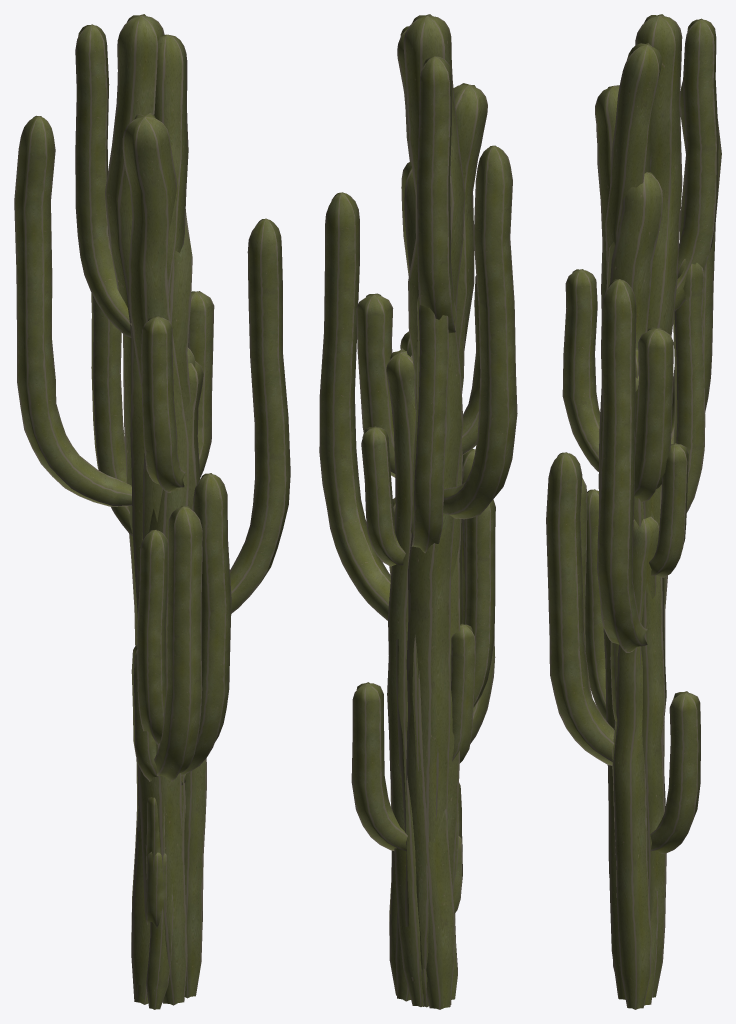
The model's file is cactus_1k.gltf.
3 views of the same model, side by side, from view 1: azimuth 30°, elevation 25°; view 2: azimuth 150°, elevation 25°; view 3: azimuth 270°, elevation 25° (orthographic). The views are drawn at different scales.
Parts seen in each view (by area): view 1: Single_cactus_big_3__LOD0, Single_cactus_big_1__LOD0, Single_cactus_medium_2__LOD0, Single_cactus_big_clean_2__LOD0, Single_cactus_medium_1__LOD0, Single_cactus_medium_3__LOD0, Single_cactus_big_clean_1__LOD0, Single_cactus_small_3__LOD0, Single_cactus_small_2__LOD0, Single_cactus_small_1__LOD0; view 2: Single_cactus_big_3__LOD0, Single_cactus_big_1__LOD0, Single_cactus_medium_1__LOD0, Single_cactus_medium_2__LOD0, Single_cactus_big_clean_1__LOD0, Single_cactus_medium_3__LOD0, Single_cactus_big_clean_2__LOD0, Single_cactus_small_2__LOD0; view 3: Single_cactus_big_3__LOD0, Single_cactus_big_1__LOD0, Single_cactus_medium_2__LOD0, Single_cactus_medium_1__LOD0, Single_cactus_medium_3__LOD0, Single_cactus_big_clean_2__LOD0, Single_cactus_big_clean_1__LOD0, Single_cactus_small_2__LOD0.
Part boxes in pixels (x1=…): Single_cactus_big_3__LOD0: x1=14, y1=14, x2=290, y2=830; Single_cactus_big_1__LOD0: x1=75, y1=24, x2=214, y2=1005; Single_cactus_medium_2__LOD0: x1=91, y1=293, x2=203, y2=785; Single_cactus_big_clean_2__LOD0: x1=142, y1=34, x2=188, y2=829; Single_cactus_medium_1__LOD0: x1=137, y1=529, x2=167, y2=744; Single_cactus_medium_3__LOD0: x1=131, y1=645, x2=206, y2=998; Single_cactus_big_clean_1__LOD0: x1=131, y1=209, x2=192, y2=1004; Single_cactus_small_3__LOD0: x1=145, y1=844, x2=173, y2=1009; Single_cactus_small_2__LOD0: x1=146, y1=852, x2=166, y2=928; Single_cactus_small_1__LOD0: x1=146, y1=797, x2=164, y2=879; Single_cactus_big_3__LOD0: x1=319, y1=14, x2=517, y2=1006; Single_cactus_big_1__LOD0: x1=356, y1=56, x2=495, y2=894; Single_cactus_medium_1__LOD0: x1=361, y1=349, x2=495, y2=1006; Single_cactus_medium_2__LOD0: x1=351, y1=275, x2=480, y2=851; Single_cactus_big_clean_1__LOD0: x1=398, y1=161, x2=454, y2=1009; Single_cactus_medium_3__LOD0: x1=389, y1=497, x2=475, y2=995; Single_cactus_big_clean_2__LOD0: x1=395, y1=26, x2=464, y2=1001; Single_cactus_small_2__LOD0: x1=411, y1=836, x2=462, y2=1007; Single_cactus_big_3__LOD0: x1=546, y1=14, x2=721, y2=997; Single_cactus_big_1__LOD0: x1=580, y1=18, x2=718, y2=999; Single_cactus_medium_2__LOD0: x1=562, y1=259, x2=705, y2=853; Single_cactus_medium_1__LOD0: x1=585, y1=385, x2=688, y2=997; Single_cactus_medium_3__LOD0: x1=612, y1=516, x2=659, y2=1009; Single_cactus_big_clean_2__LOD0: x1=605, y1=43, x2=661, y2=1005; Single_cactus_big_clean_1__LOD0: x1=606, y1=172, x2=664, y2=788; Single_cactus_small_2__LOD0: x1=608, y1=641, x2=618, y2=873.
Size of what is drawn, in the model's own units: 1.16 by 4.78 by 0.7823.
1 material, 1 textured.
